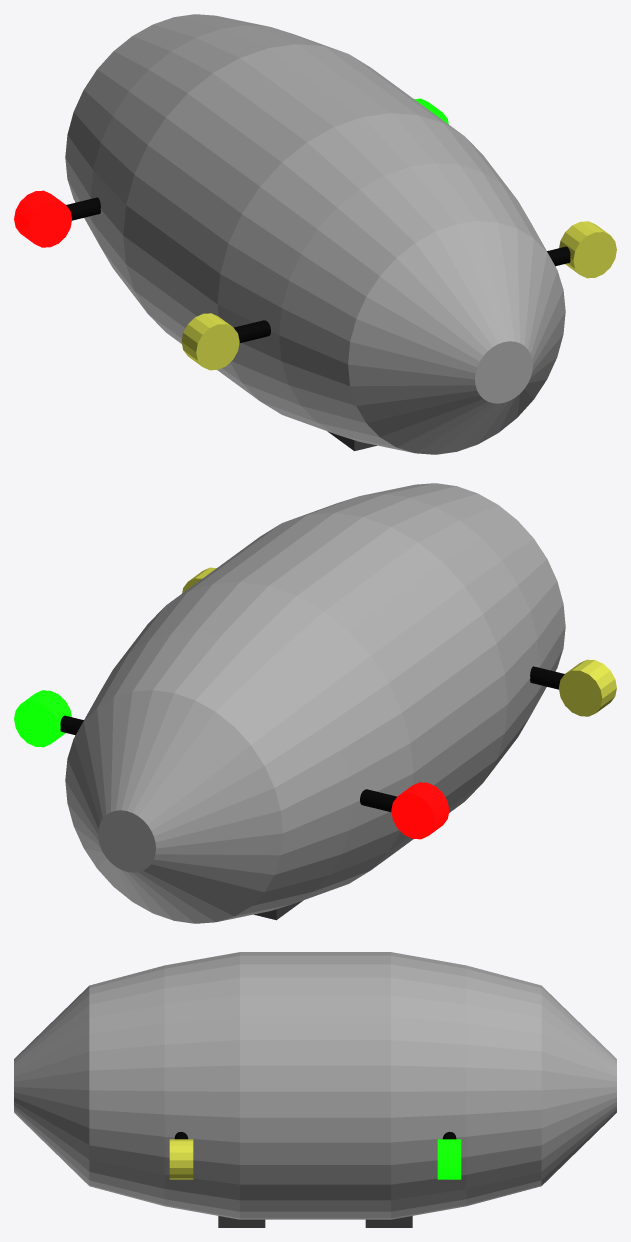
Rendered from blimp.glb.
3 renders of one model, top to bottom at view 1: azimuth 30°, elevation 25°; view 2: azimuth 150°, elevation 25°; view 3: azimuth 270°, elevation 25°, orthographic. The views are drawn at different scales.
Parts seen in each view (by area): view 1: Body, EngineBL, EngineFL, EngineBR; view 2: Body, EngineFL, EngineBL, EngineFR; view 3: Body, EngineFR, EngineBR, CasingF, CasingB.
Part boxes in pixels (box(x1,y1,x2,y2)): Body: box(65, 14, 565, 454); EngineBL: box(181, 313, 239, 370); EngineFL: box(14, 190, 71, 247); EngineBR: box(559, 221, 616, 278); Body: box(65, 483, 565, 923); EngineFL: box(391, 782, 449, 839); EngineBL: box(559, 659, 616, 716); EngineFR: box(14, 690, 71, 747); Body: box(14, 952, 616, 1219); EngineFR: box(437, 1139, 461, 1179); EngineBR: box(169, 1139, 193, 1179); CasingF: box(218, 1216, 265, 1227); CasingB: box(365, 1216, 412, 1227).
Bounding box in the file's own units: 2.9 × 2.1 × 4.5.
